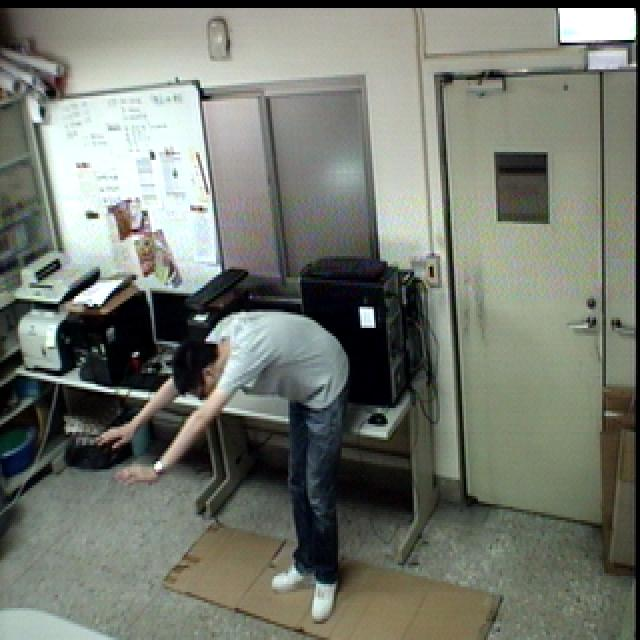bend: (92, 308, 357, 629)
